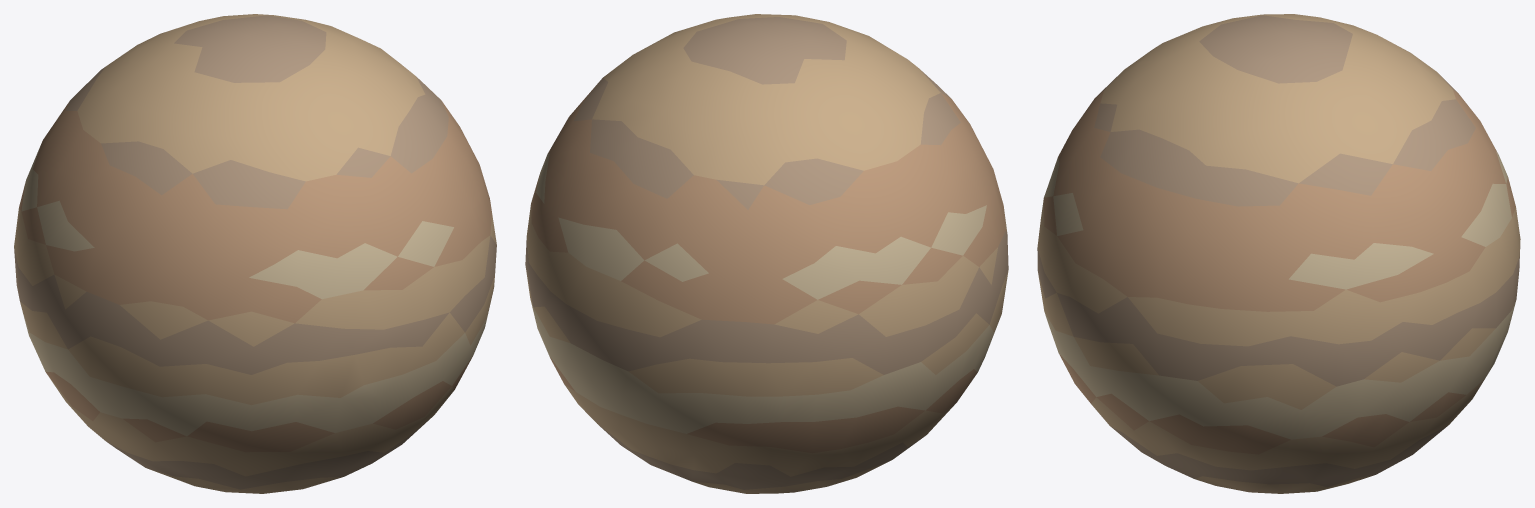
Rendered from space-planet-6.glb.
The picture shows the model from 3 angles, left to right: view 1: azimuth 30°, elevation 25°; view 2: azimuth 150°, elevation 25°; view 3: azimuth 270°, elevation 25°; orthographic projection.
Visible parts, largest first — view 1: space-planet-6; view 2: space-planet-6; view 3: space-planet-6.
Boxes of the visible parts, left/top/right/bottom form: space-planet-6: left=14, top=14, right=496, bottom=493; space-planet-6: left=525, top=14, right=1008, bottom=493; space-planet-6: left=1037, top=14, right=1520, bottom=493.
Size of the model in its own units: 3.51 by 3.5 by 3.51.
